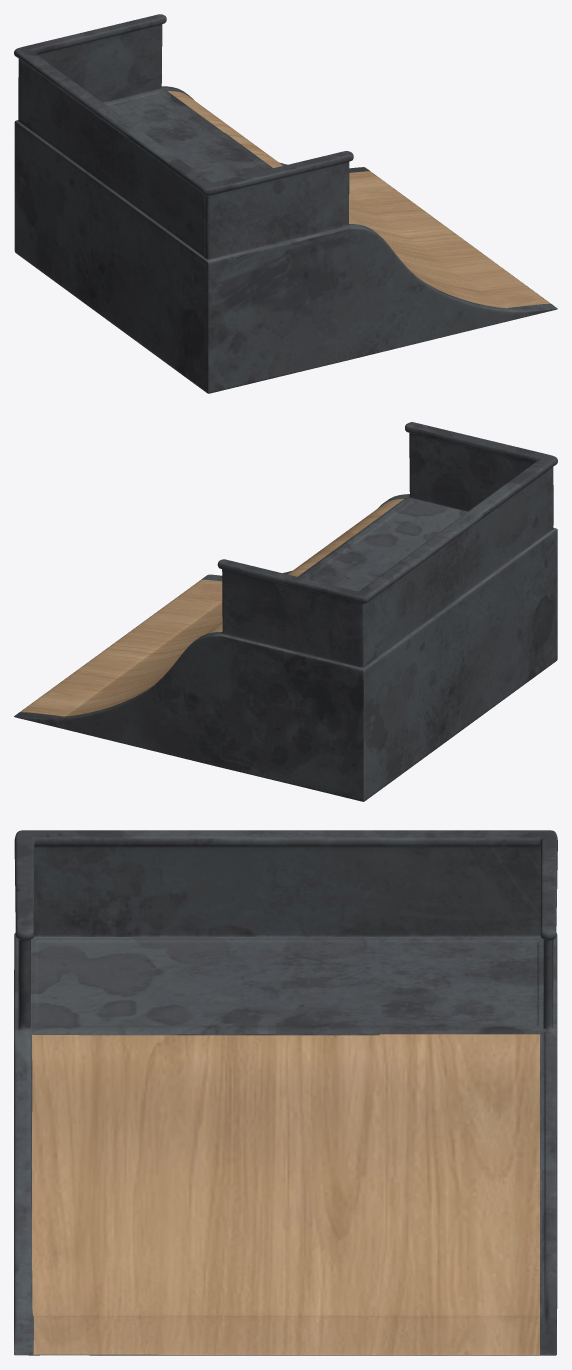
The model's file is SM_PipeMetal.fbx.
The picture shows the model from 3 angles, top to bottom: view 1: azimuth 30°, elevation 25°; view 2: azimuth 150°, elevation 25°; view 3: azimuth 270°, elevation 25°; orthographic projection. The views are drawn at different scales.
Visible parts, largest first — view 1: 16297_SkatePark_ramp04_v2; view 2: 16297_SkatePark_ramp04_v2; view 3: 16297_SkatePark_ramp04_v2.
Part boxes in pixels (x1,y1,x2,y2): 16297_SkatePark_ramp04_v2: [14, 14, 557, 393]; 16297_SkatePark_ramp04_v2: [14, 422, 557, 801]; 16297_SkatePark_ramp04_v2: [14, 830, 557, 1355].
Size of the model in its own units: 33795 by 18719 by 32235.
2 materials, 2 textured.
